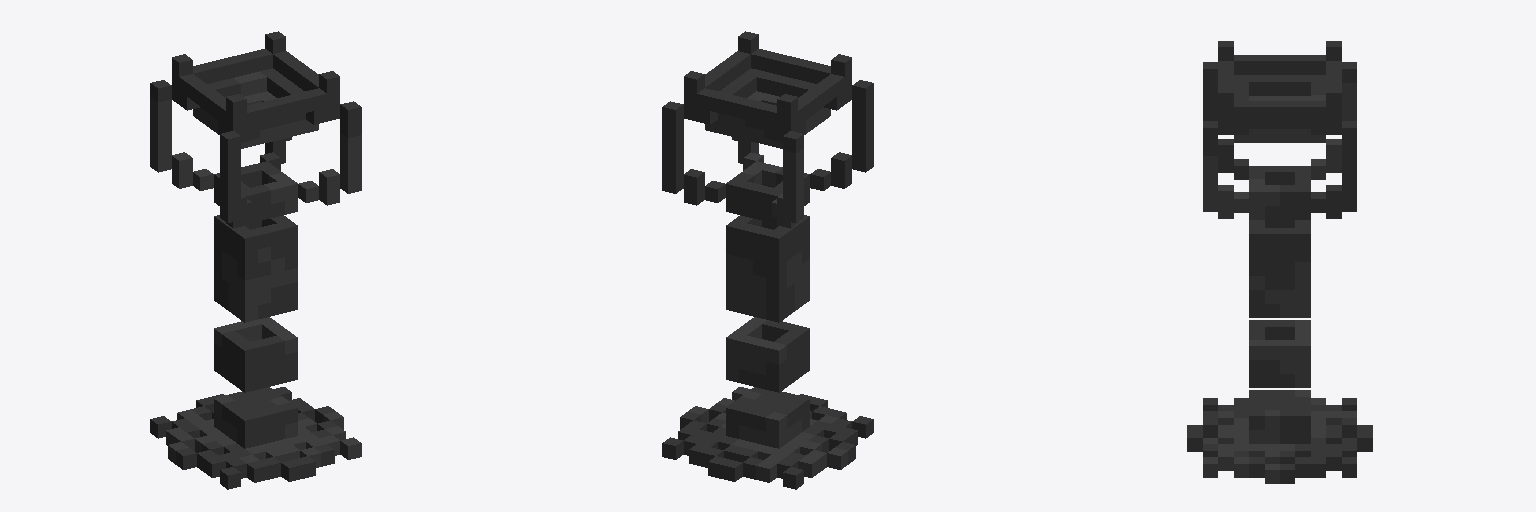
3 views of the same model, side by side, from view 1: azimuth 30°, elevation 25°; view 2: azimuth 150°, elevation 25°; view 3: azimuth 270°, elevation 25° (orthographic).
Visible parts, largest first — view 1: object 1; view 2: object 1; view 3: object 1.
Boxes of the visible parts, box(x1,y1,x2,y2) form: object 1: box(150, 31, 361, 489); object 1: box(662, 31, 873, 489); object 1: box(1187, 41, 1372, 483).
Bounding box in the file's own units: 1.2 × 2.7 × 1.2.
1 materials, 1 textured.